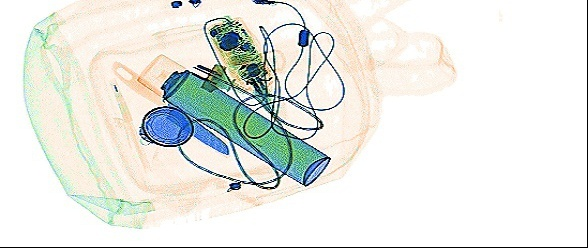knife: (109, 59, 229, 154)
pressure: (136, 53, 330, 186)
